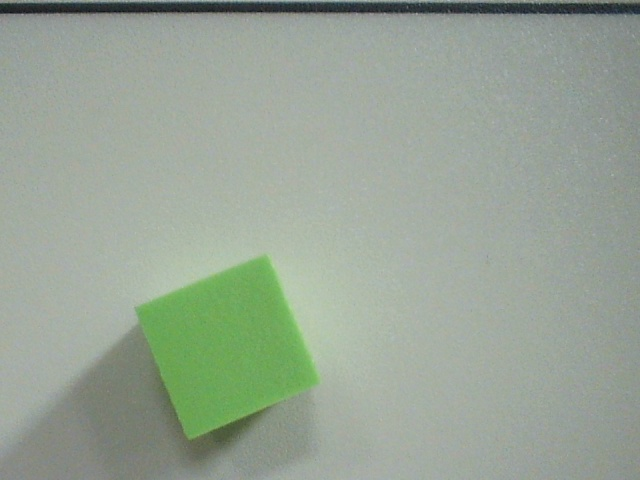greencube: (128, 247, 333, 448)
